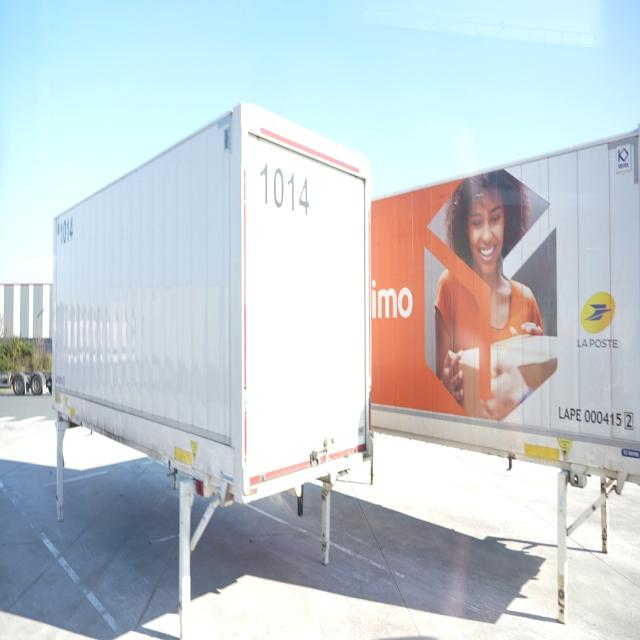Code: (253, 151, 320, 223), (55, 214, 79, 248)
